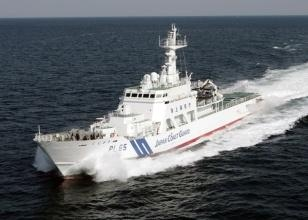warship: (26, 23, 277, 175)
